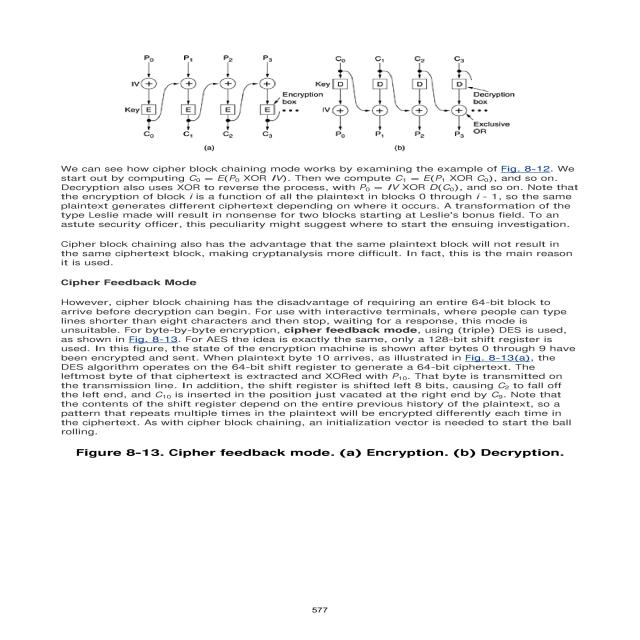diagram: (96, 19, 530, 157)
